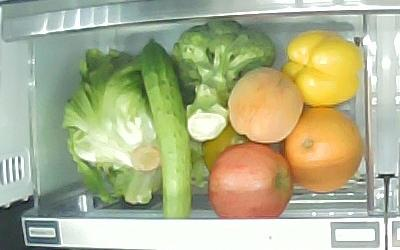apple: (209, 143, 293, 219)
broccoli: (172, 20, 276, 141)
cucumber: (141, 38, 192, 219)
grapefruit: (280, 108, 363, 193)
lettuce: (62, 48, 210, 203)
paprika: (282, 30, 362, 107)
peach: (228, 67, 303, 143)
